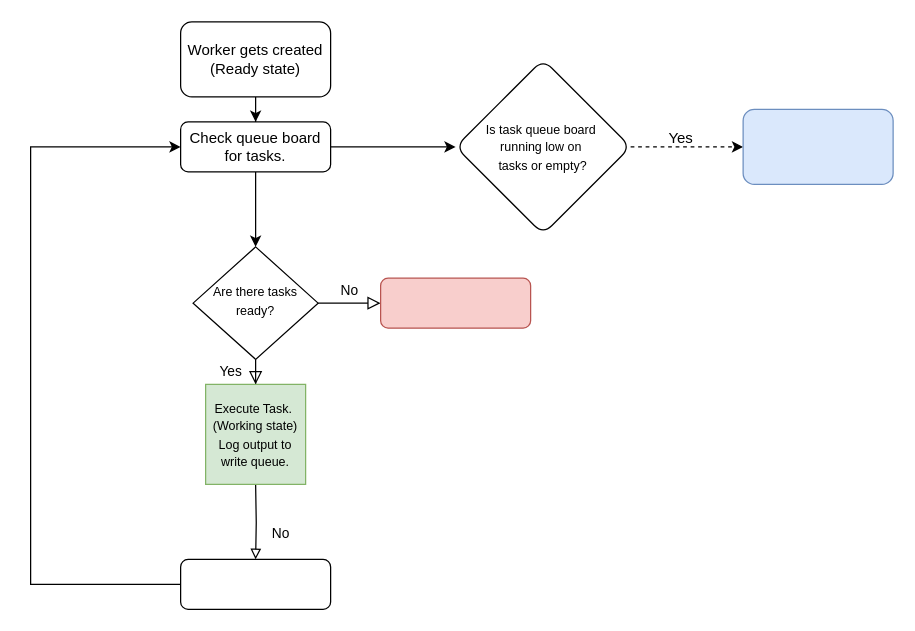
Image size: 915x631. Some labels were removed from this diagram. The centre of each missing label's shape, as x and y in pixels:
"Board sends signal to QP to send more tasks" belongs at (x=817, y=146).
"Go back to board to check for more tasks." belongs at (x=255, y=583).
"Wait until signal that tasks are now published to board.(Idle state)" belongs at (x=455, y=302).
